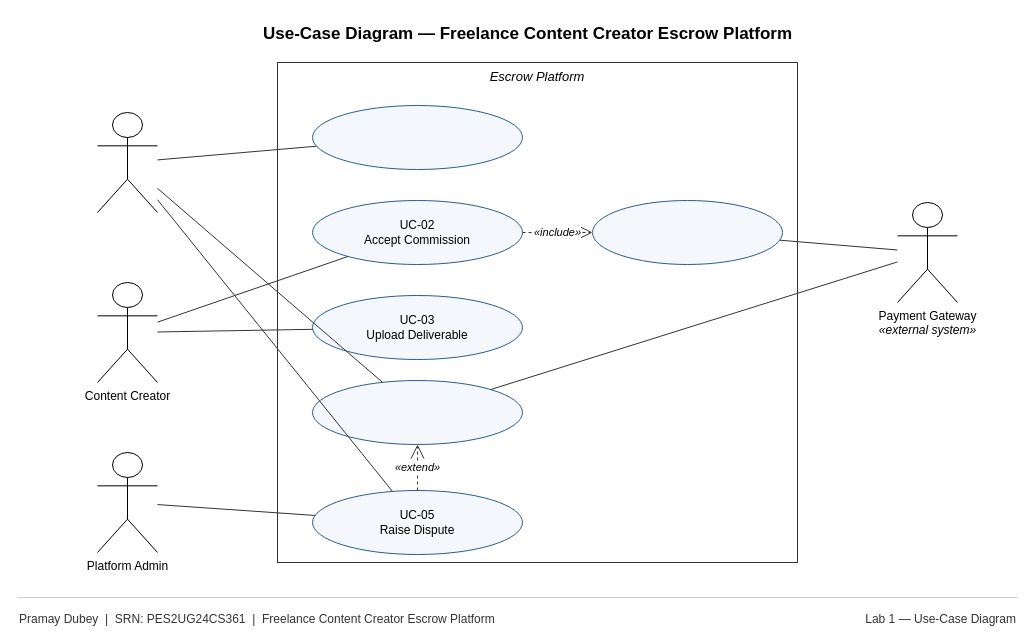
Some shapes in this 1035 by 643 pixel diagram are drawn without their labels. The centre of each missing label's shape, as x and y in pixels:
Client Sponsor: the point at 127,162
Fund Escrow: the point at 687,232
UC-01 Post Commission: the point at 417,137
UC-04 Approve & Release Funds: the point at 417,412
